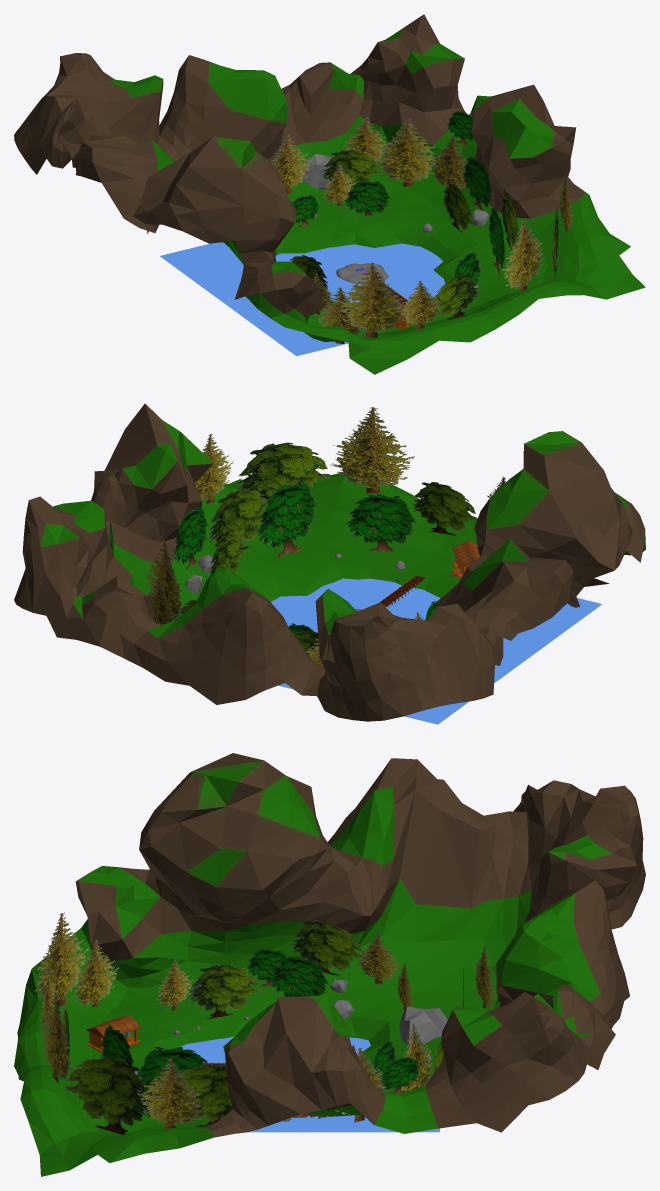
Rendered from VALLE.fbx.
3 views of the same model, one above another, from view 1: azimuth 30°, elevation 25°; view 2: azimuth 150°, elevation 25°; view 3: azimuth 270°, elevation 25° (orthographic). The views are drawn at different scales.
Parts seen in each view (by area): view 1: Retopo_Plane.001, Agua.001, Arbol2.012, Arbol2.007, Arbol2.010, Arbol3.007, Arbol3.004, Arbol2.008, Arbol2.004, Arbol1.002, Arbol2.015, Retopo_rock_01.001 (+12 smaller); view 2: Retopo_Plane.001, Agua.001, Arbol2.010, Arbol3.005, Arbol1.006, Arbol1.007, Arbol3.003, Arbol3.004, Arbol1.008, Arbol2.007, Arbol2.009, Arbol3.002 (+3 smaller); view 3: Retopo_Plane.001, Arbol3.005, Agua.001, Arbol3.001, Arbol2.009, Arbol3.008, Arbol2.012, Arbol3.003, Retopo_rock_01.001, Arbol1.005, Arbol2.014, Arbol1.006 (+8 smaller).
Boxes of the visible parts, x1=… form: Retopo_Plane.001: x1=14, y1=14, x2=645, y2=374; Agua.001: x1=160, y1=242, x2=445, y2=356; Arbol2.012: x1=336, y1=263, x2=408, y2=337; Arbol2.007: x1=376, y1=117, x2=440, y2=186; Arbol2.010: x1=501, y1=218, x2=545, y2=291; Arbol3.007: x1=322, y1=149, x2=382, y2=189; Arbol3.004: x1=433, y1=274, x2=478, y2=320; Arbol2.008: x1=428, y1=136, x2=467, y2=189; Arbol2.004: x1=271, y1=134, x2=312, y2=193; Arbol1.002: x1=344, y1=180, x2=390, y2=216; Arbol2.015: x1=398, y1=281, x2=441, y2=329; Retopo_rock_01.001: x1=294, y1=154, x2=489, y2=304; Retopo_Plane.001: x1=14, y1=403, x2=645, y2=721; Agua.001: x1=271, y1=578, x2=602, y2=724; Arbol2.010: x1=330, y1=407, x2=414, y2=493; Arbol3.005: x1=237, y1=442, x2=330, y2=505; Arbol1.006: x1=256, y1=480, x2=317, y2=558; Arbol1.007: x1=346, y1=493, x2=416, y2=551; Arbol3.003: x1=209, y1=488, x2=268, y2=549; Arbol3.004: x1=413, y1=482, x2=477, y2=535; Arbol1.008: x1=173, y1=505, x2=207, y2=569; Arbol2.007: x1=144, y1=539, x2=184, y2=621; Arbol2.009: x1=194, y1=434, x2=233, y2=503; Arbol3.002: x1=209, y1=533, x2=246, y2=575; Retopo_Plane.001: x1=14, y1=753, x2=645, y2=1176; Arbol3.005: x1=65, y1=1056, x2=150, y2=1134; Agua.001: x1=181, y1=1036, x2=439, y2=1132; Arbol3.001: x1=189, y1=964, x2=261, y2=1019; Arbol2.009: x1=137, y1=1058, x2=205, y2=1128; Arbol3.008: x1=291, y1=920, x2=364, y2=975; Arbol2.012: x1=33, y1=912, x2=88, y2=1006; Arbol3.003: x1=179, y1=1064, x2=232, y2=1126; Retopo_rock_01.001: x1=134, y1=979, x2=447, y2=1121; Arbol1.005: x1=269, y1=955, x2=328, y2=996; Arbol2.014: x1=72, y1=940, x2=119, y2=1007; Arbol1.006: x1=137, y1=1047, x2=207, y2=1120.
Size of the model in its own units: 10926 by 5220 by 11166.
